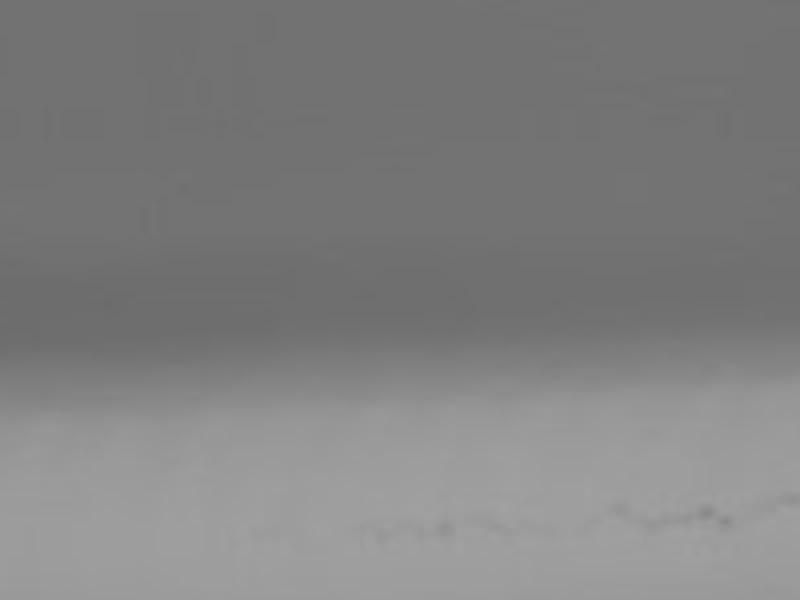defect: (637, 509, 696, 535), (484, 517, 516, 542), (370, 524, 398, 551), (768, 488, 800, 508), (434, 516, 456, 538), (690, 497, 713, 518), (611, 498, 634, 518), (715, 511, 737, 530)
